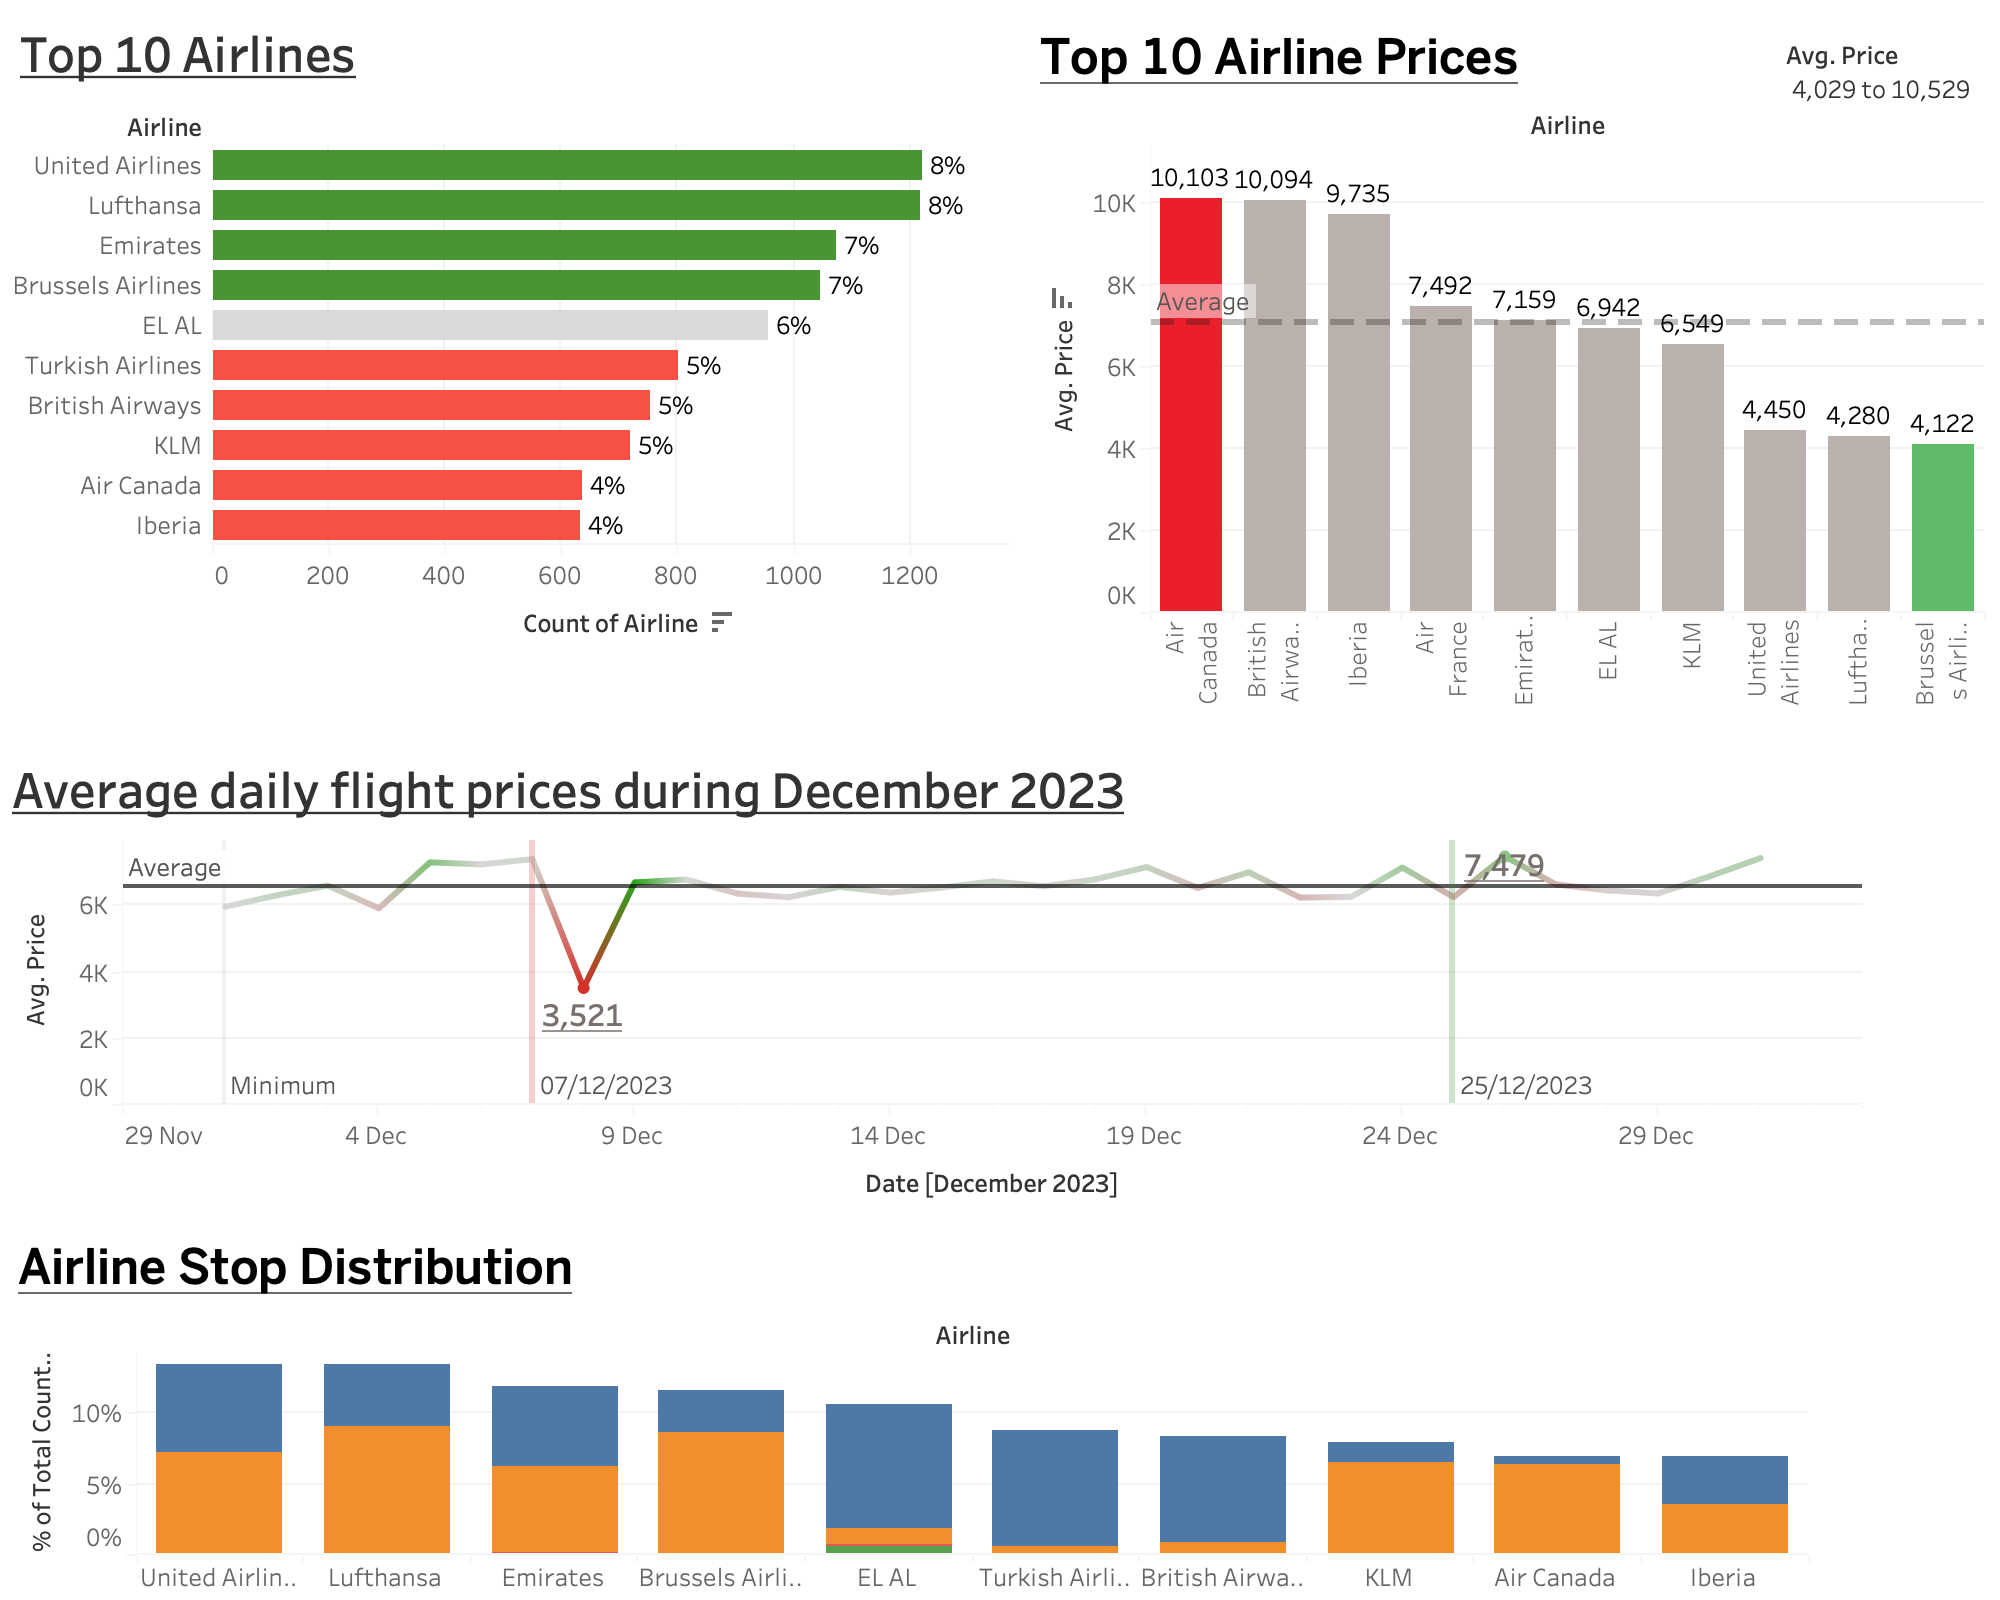

What the dashboard file says about the page in this screenshot:
{"tool":"tableau","page":{"name":"Flight Data Analysis & Insights","canvas":[1000,800],"ordinal":0},"visuals":[{"type":"worksheet","title":"Top 10 Airlines","mark":"Automatic","rows":["Airline"],"cols":["Airline"],"box":[6,4,499,355]},{"type":"worksheet","title":"Top 10 Airline Prices","mark":"Automatic","rows":["Price"],"cols":["Airline"],"box":[516,8,476,346]},{"type":"filter","title":"Top 10 Airline Prices","param":"[federated.1pbxyae1ke6gbi1bsdjzu18gnrld].[avg:Price:qk]","box":[893,18,99,71]},{"type":"worksheet","title":"Average daily flight prices","mark":"Automatic","rows":["Price"],"cols":["Date"],"box":[2,372,929,235]},{"type":"worksheet","title":"Airline Stop Distribution","mark":"Automatic","rows":["Airline"],"cols":["Airline"],"box":[5,613,899,185]}]}

Visuals, with their boxes in screenshot pixels (x1, y1, x2, y2), scaled from the page's 1000x800 canvas onto the 2000x1600 screenshot:
"Top 10 Airlines" worksheet: bbox(12, 8, 1010, 718)
"Top 10 Airline Prices" worksheet: bbox(1032, 16, 1984, 708)
"Top 10 Airline Prices" filter: bbox(1786, 36, 1984, 178)
"Average daily flight prices" worksheet: bbox(4, 744, 1862, 1214)
"Airline Stop Distribution" worksheet: bbox(10, 1226, 1808, 1596)
